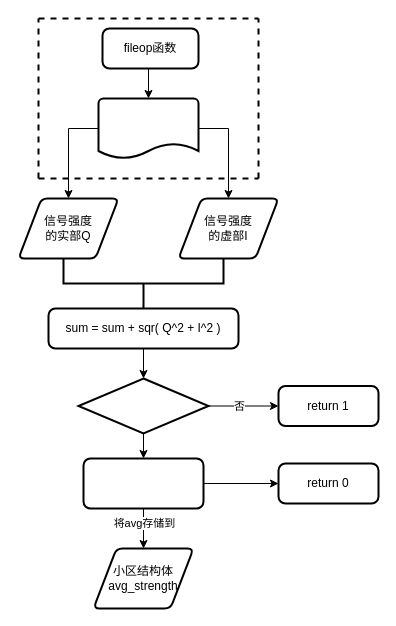
This 396x626 diagram has some shape labels left out. Each missing label, with the box of its shape:
avg = sum / (MAX/2): (82, 457, 204, 509)
i++ = MAX/2: (77, 377, 209, 434)
当前小区信号强度 数据文件: (97, 97, 199, 159)
